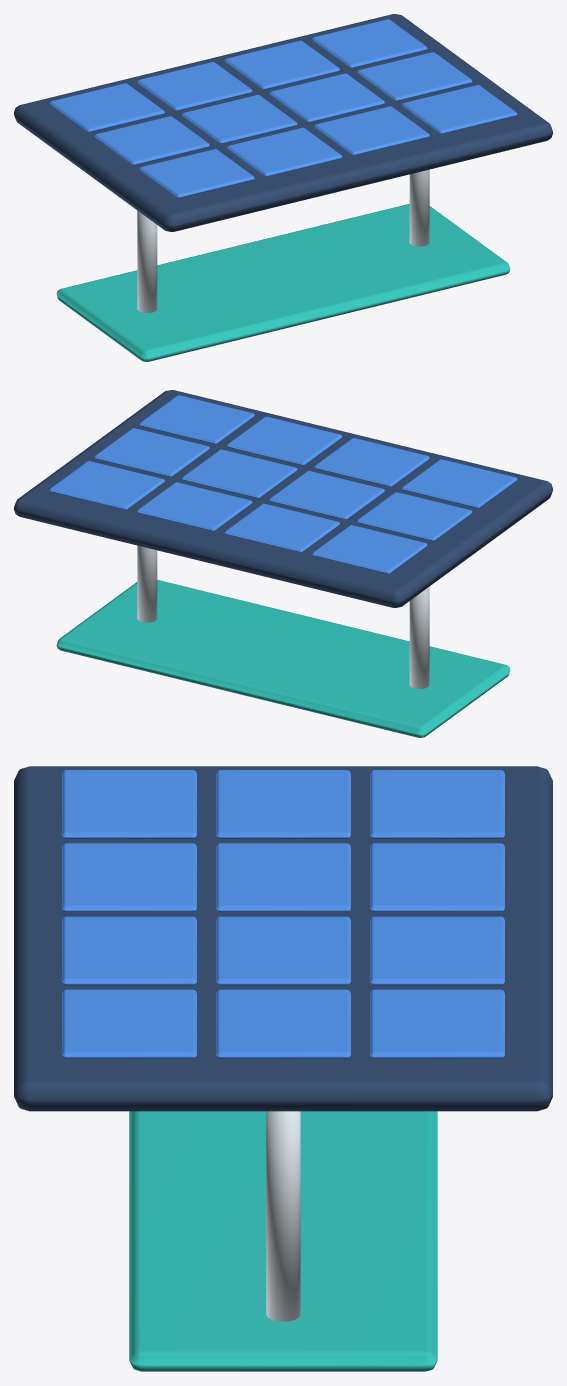
The model's file is solar-panel-lite.glb.
3 views of the same model, one above another, from view 1: azimuth 30°, elevation 25°; view 2: azimuth 150°, elevation 25°; view 3: azimuth 270°, elevation 25° (orthographic). The views are drawn at different scales.
Visible parts, largest first — view 1: Panel frame; view 2: Panel frame; view 3: Panel frame.
Boxes of the visible parts, x1,y1,x2,y2 form: Panel frame: (14, 14, 552, 361); Panel frame: (14, 390, 552, 737); Panel frame: (14, 766, 552, 1371).
Bounding box in the file's own units: 2 × 0.89 × 1.4.
